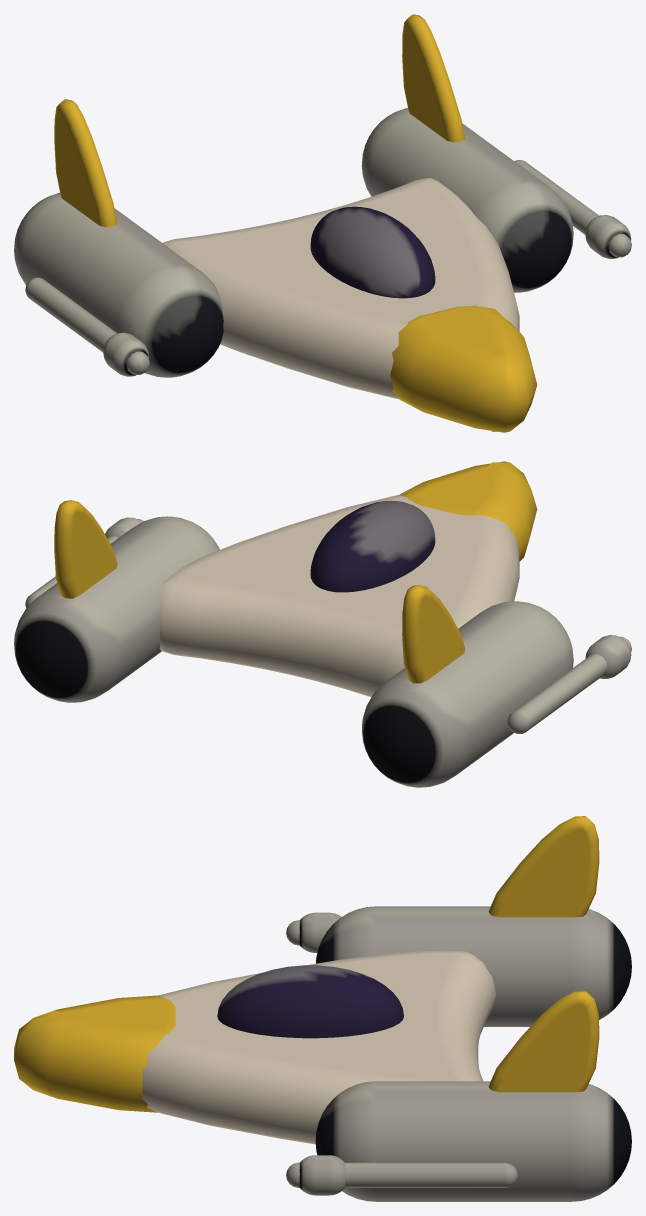
File: dart-starfighter-5.obj
3 renders of one model, top to bottom at view 1: azimuth 30°, elevation 25°; view 2: azimuth 150°, elevation 25°; view 3: azimuth 270°, elevation 25°, orthographic. The views are drawn at different scales.
Parts seen in each view (by area): view 1: starfighter; view 2: starfighter; view 3: starfighter.
Part boxes in pixels (x1,y1,x2,y2): starfighter: [14, 14, 631, 432]; starfighter: [14, 461, 631, 787]; starfighter: [14, 816, 631, 1201].
Bounding box in the file's own units: 179 × 65.78 × 180.
